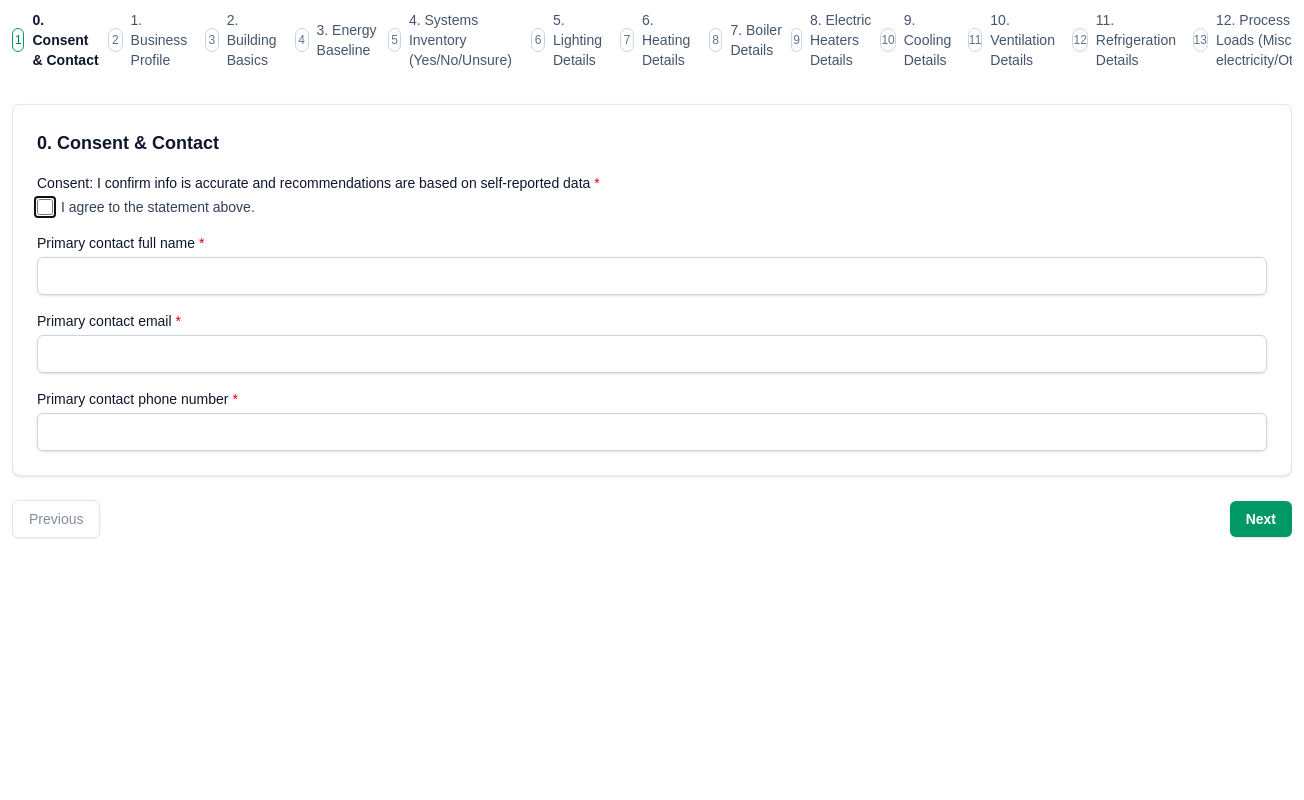
Scenario: QuestionnaireForm consent › requires consent_self_reported before completing
# Try to advance without ticking consent: trigger validation on first step
Click the button "Next" at (1261, 519), box [1230,501,1292,537]
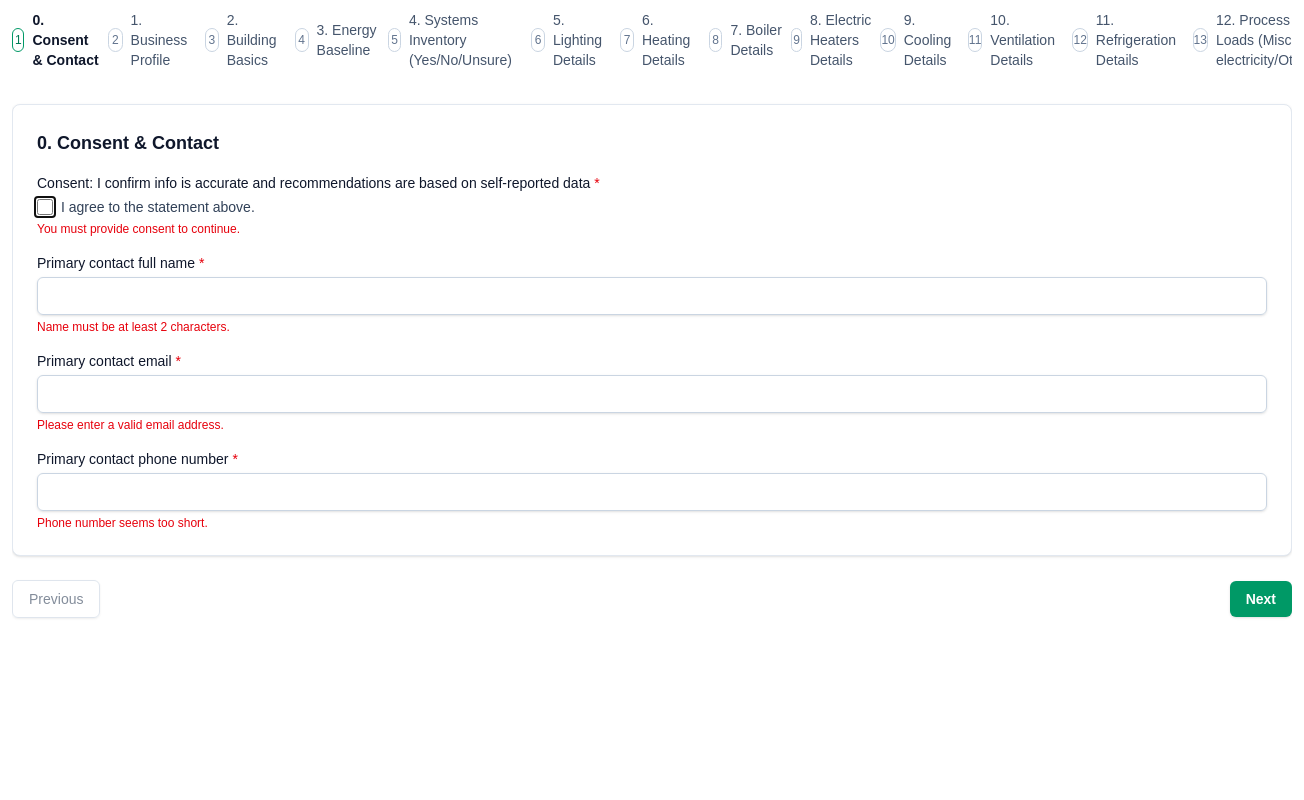
Result: the text "You must provide consent to continue." is shown at [37,222,240,236]
